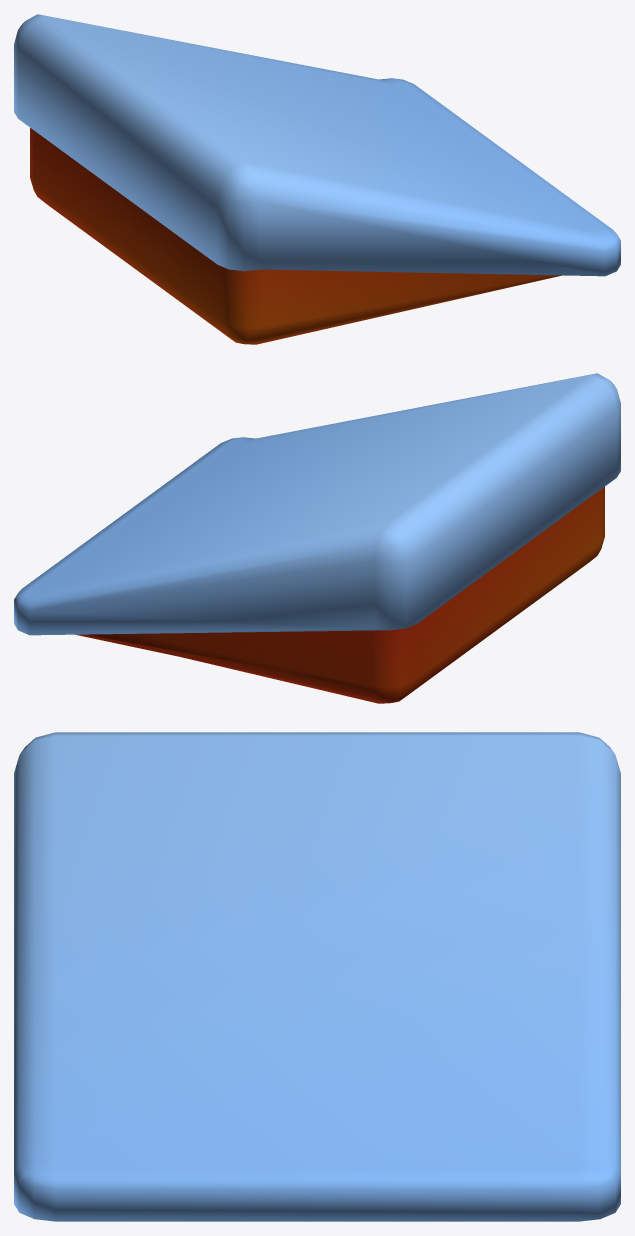
The model's file is trap_platformstairblue.glb.
3 renders of one model, top to bottom at view 1: azimuth 30°, elevation 25°; view 2: azimuth 150°, elevation 25°; view 3: azimuth 270°, elevation 25°, orthographic. The views are drawn at different scales.
Visible parts, largest first — view 1: Cube.013_visual; view 2: Cube.013_visual; view 3: Cube.013_visual.
Part boxes in pixels (x1,y1,x2,y2): Cube.013_visual: [14, 14, 620, 344]; Cube.013_visual: [14, 373, 620, 703]; Cube.013_visual: [14, 732, 620, 1221].
Size of what is drawn, in the model's own units: 1.42 by 0.634 by 1.42.
1 material, 1 textured.
